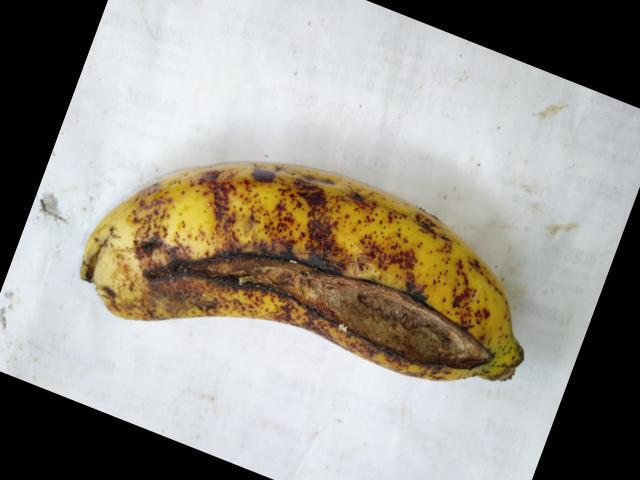rotten: (140, 204, 515, 394)
